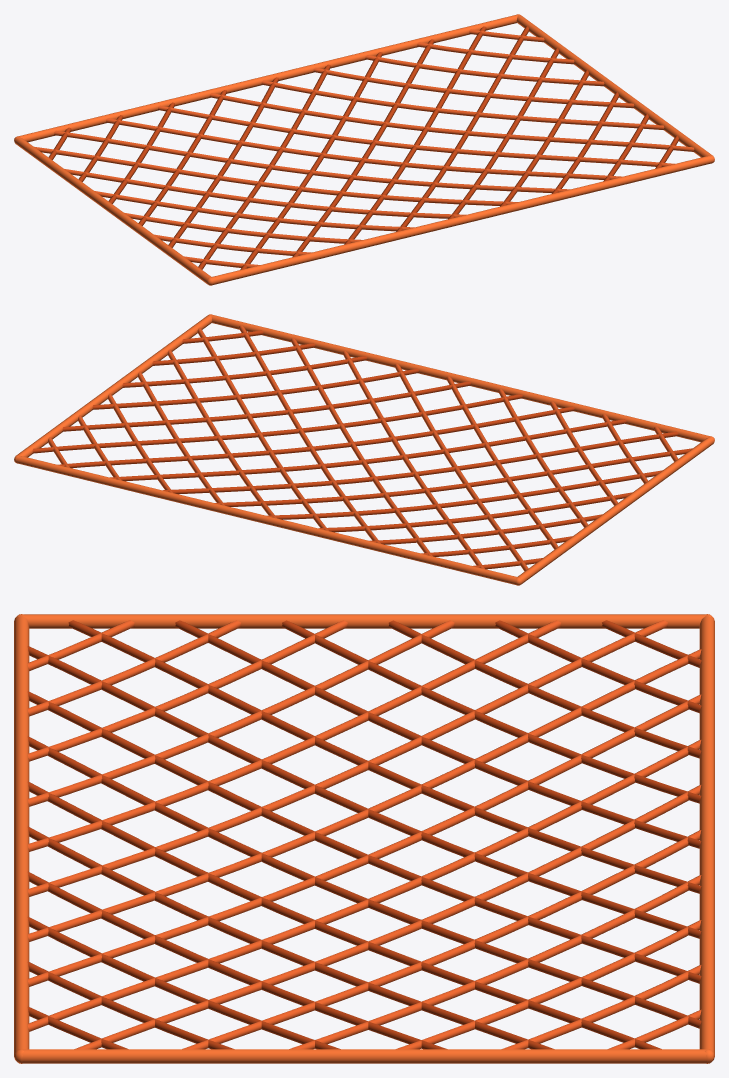
Rendered from procedural-marine-net.glb.
3 views of the same model, one above another, from view 1: azimuth 30°, elevation 25°; view 2: azimuth 150°, elevation 25°; view 3: azimuth 270°, elevation 25° (orthographic). The views are drawn at different scales.
Parts seen in each view (by area): view 1: rope-diagonal-a, rope-diagonal-b, fixed-perimeter-rope; view 2: rope-diagonal-b, rope-diagonal-a, fixed-perimeter-rope; view 3: rope-diagonal-a, rope-diagonal-b, fixed-perimeter-rope.
Boxes of the visible parts, x1,y1,x2,y2 form: rope-diagonal-a: [34, 29, 694, 268]; rope-diagonal-b: [48, 26, 678, 269]; fixed-perimeter-rope: [14, 14, 714, 285]; rope-diagonal-b: [32, 330, 692, 569]; rope-diagonal-a: [48, 325, 678, 571]; fixed-perimeter-rope: [14, 314, 714, 585]; rope-diagonal-a: [27, 620, 701, 1049]; rope-diagonal-b: [27, 620, 701, 1049]; fixed-perimeter-rope: [14, 614, 714, 1063].
Size of the model in its own units: 6.09 by 0.2015 by 4.09.
